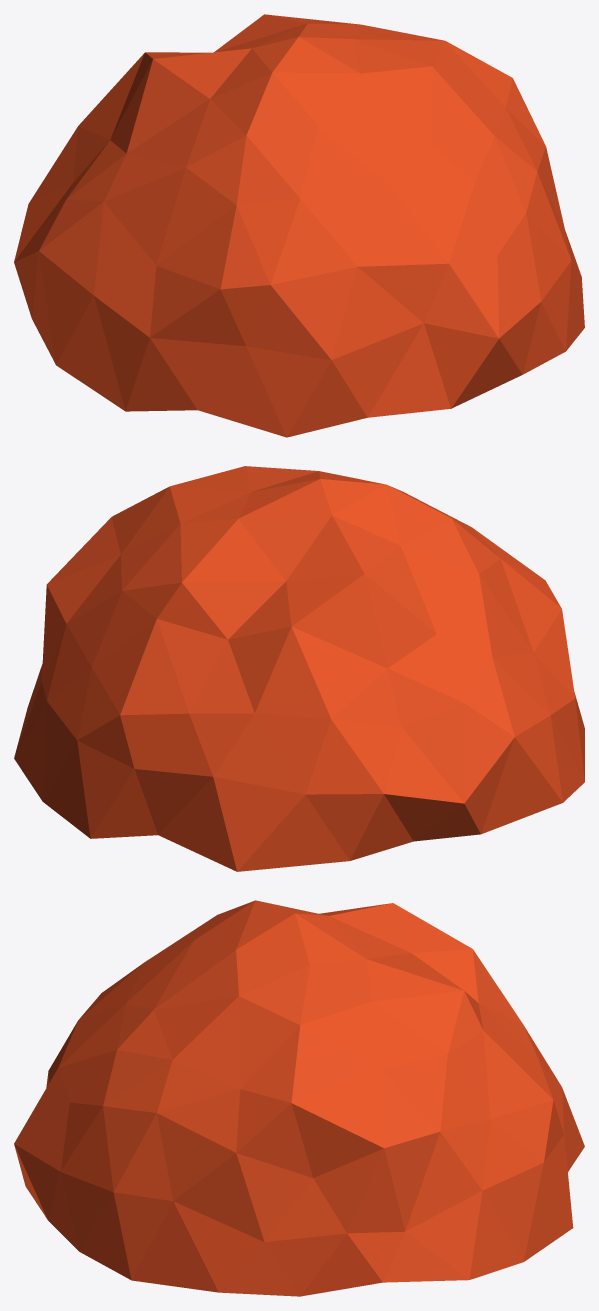
The model's file is Ceu.fbx.
3 renders of one model, top to bottom at view 1: azimuth 30°, elevation 25°; view 2: azimuth 150°, elevation 25°; view 3: azimuth 270°, elevation 25°, orthographic. The views are drawn at different scales.
Parts seen in each view (by area): view 1: SkyTest; view 2: SkyTest; view 3: SkyTest.
Boxes of the visible parts, left/top/right/bottom form: SkyTest: left=14, top=14, right=584, bottom=437; SkyTest: left=14, top=466, right=584, bottom=871; SkyTest: left=14, top=900, right=584, bottom=1296.
Size of the model in its own units: 3780 by 2075 by 3852.
